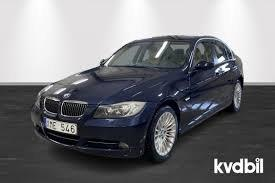license-plates: (48, 118, 77, 134)
